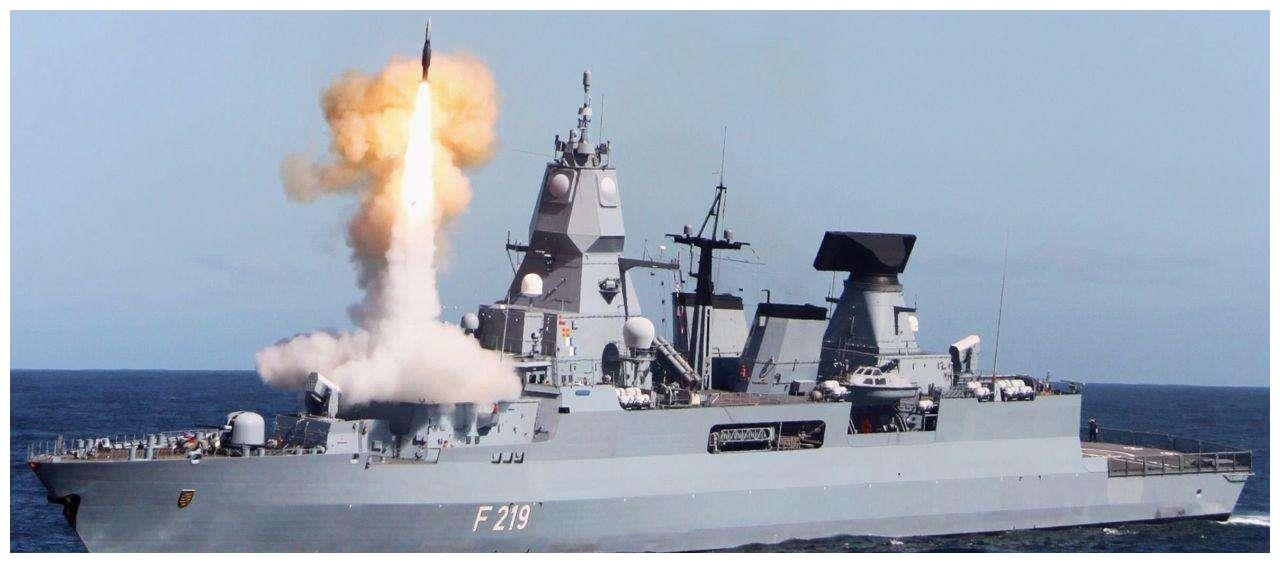warship: (29, 65, 1276, 550)
